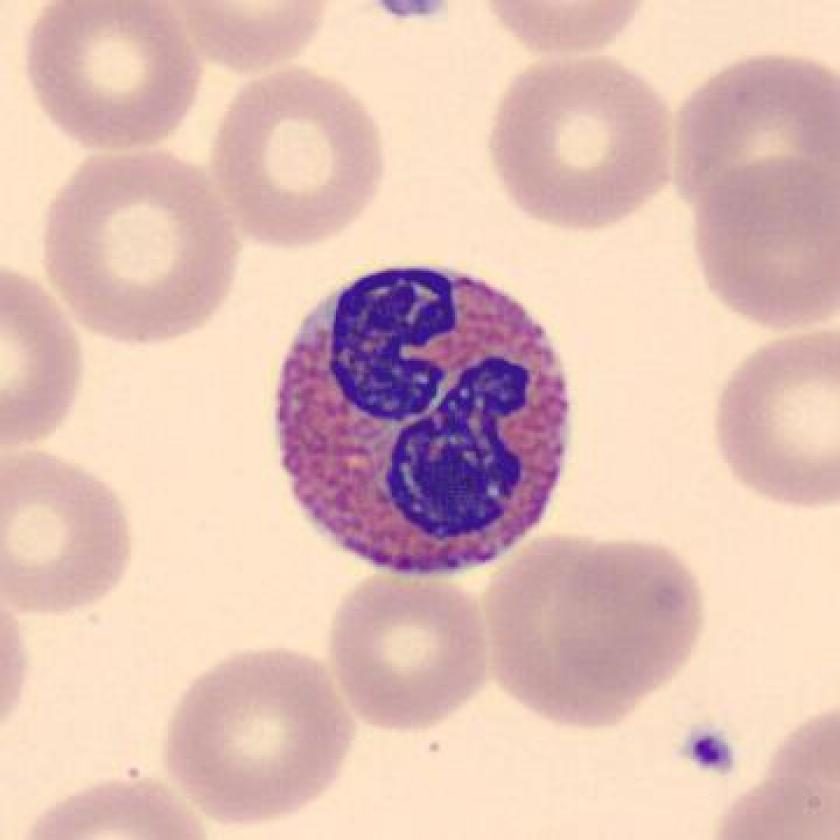eosinophil: (260, 254, 582, 594)
